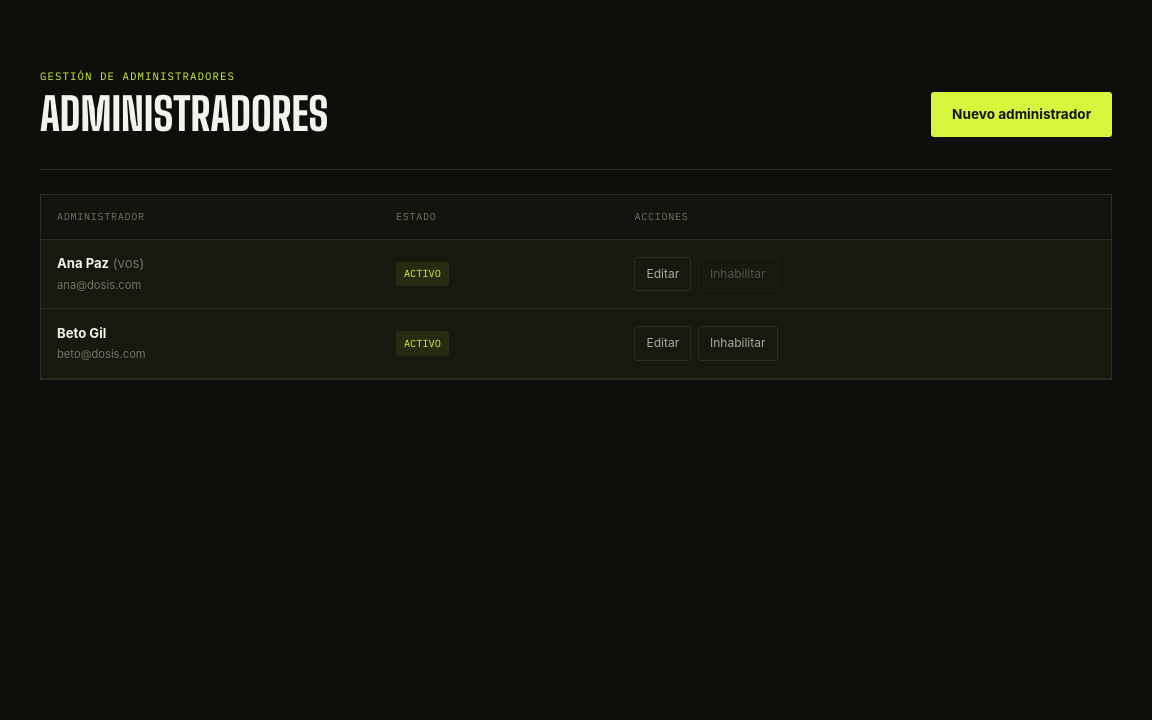
Test: AdminAdministrators › creates an administrator and adds it to the table
Expected: the text "beto@dosis.com" is shown, [57, 347, 146, 361]
Click the button "Nuevo administrador".
click(1022, 115)  # box [931, 92, 1112, 137]
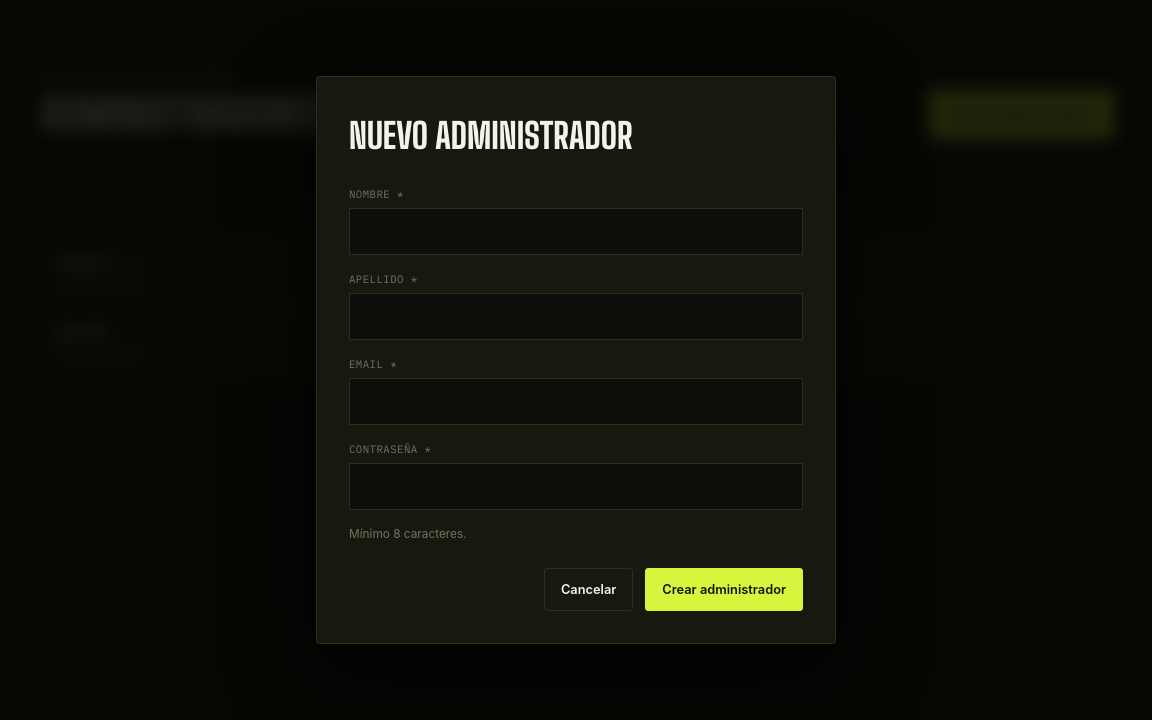
Type "Caro" into the field labelled "Nombre *".
click(576, 231); type("Caro")  # box [349, 208, 803, 255]
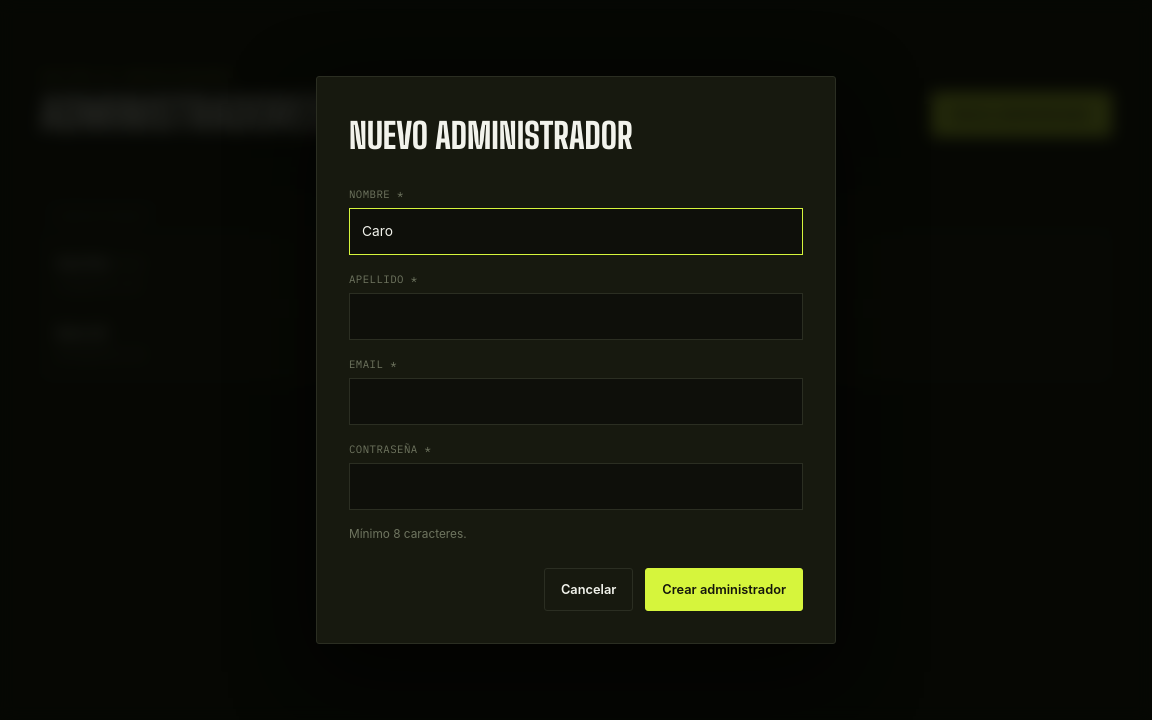
Type "Sosa" into the field labelled "Apellido *".
click(576, 316); type("Sosa")  # box [349, 293, 803, 340]
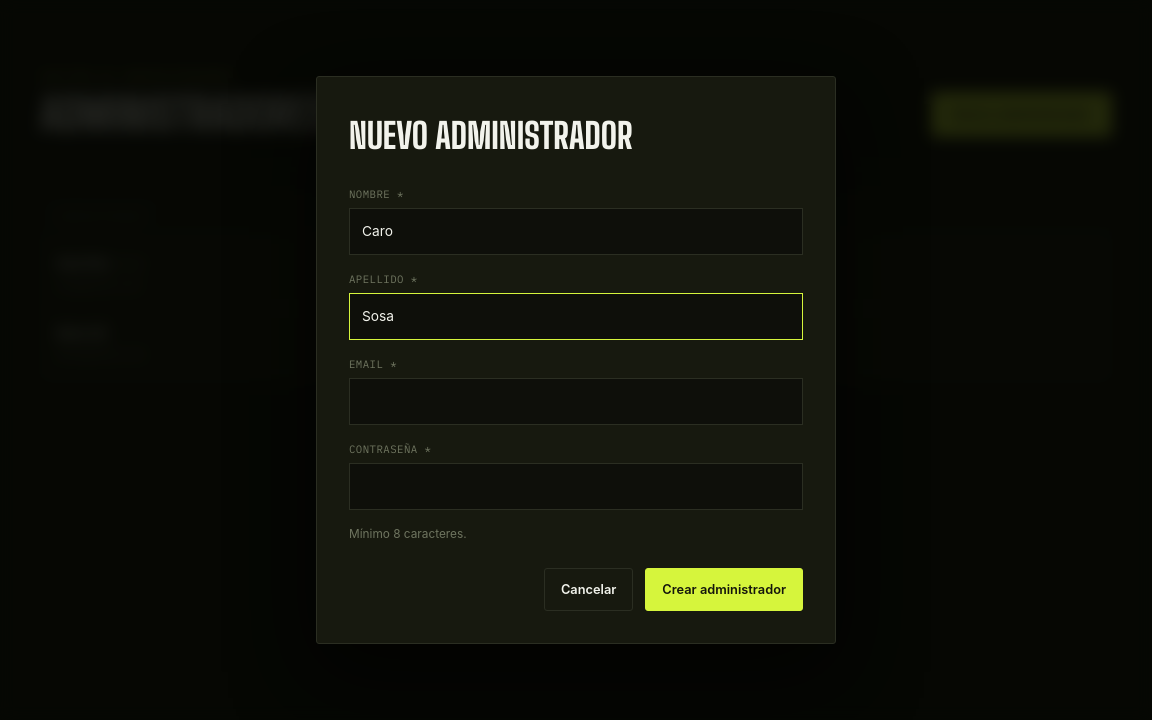
Type "caro@dosis.com" into the field labelled "Email *".
click(576, 402); type("caro@dosis.com")  # box [349, 378, 803, 425]
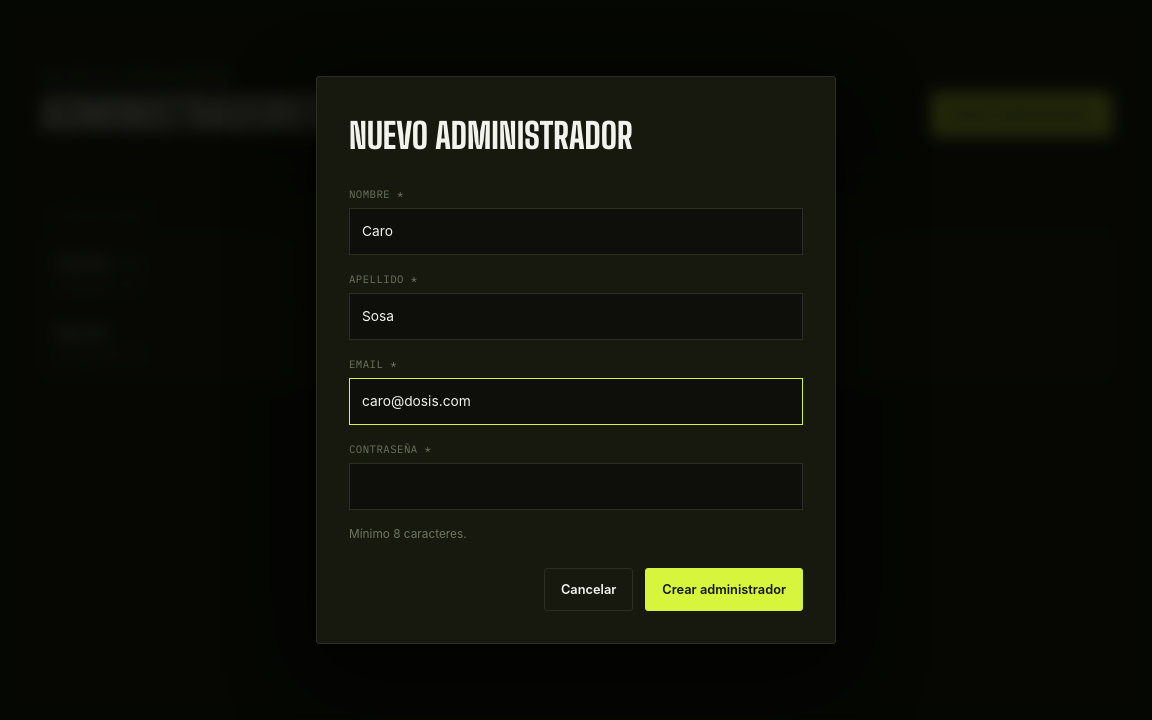
Type "clave-segura" into the password field labelled "Contraseña *".
click(576, 487); type("clave-segura")  # box [349, 463, 803, 510]
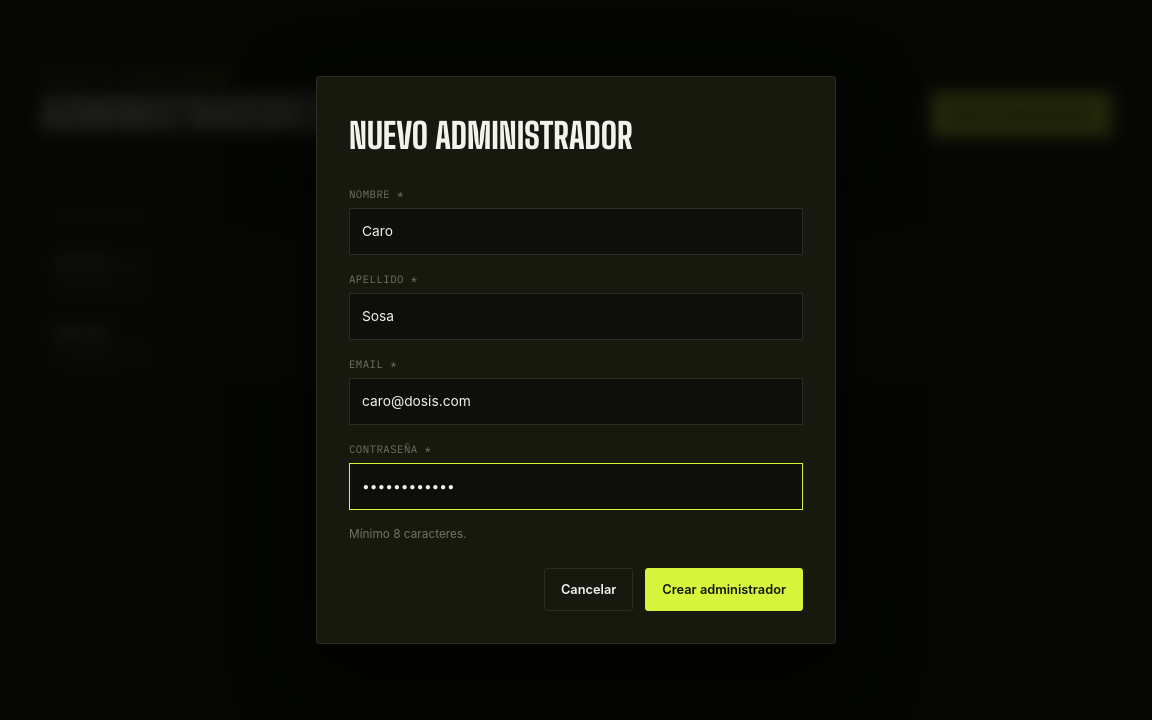
Click the button "Crear administrador".
click(724, 590)  # box [645, 568, 803, 611]
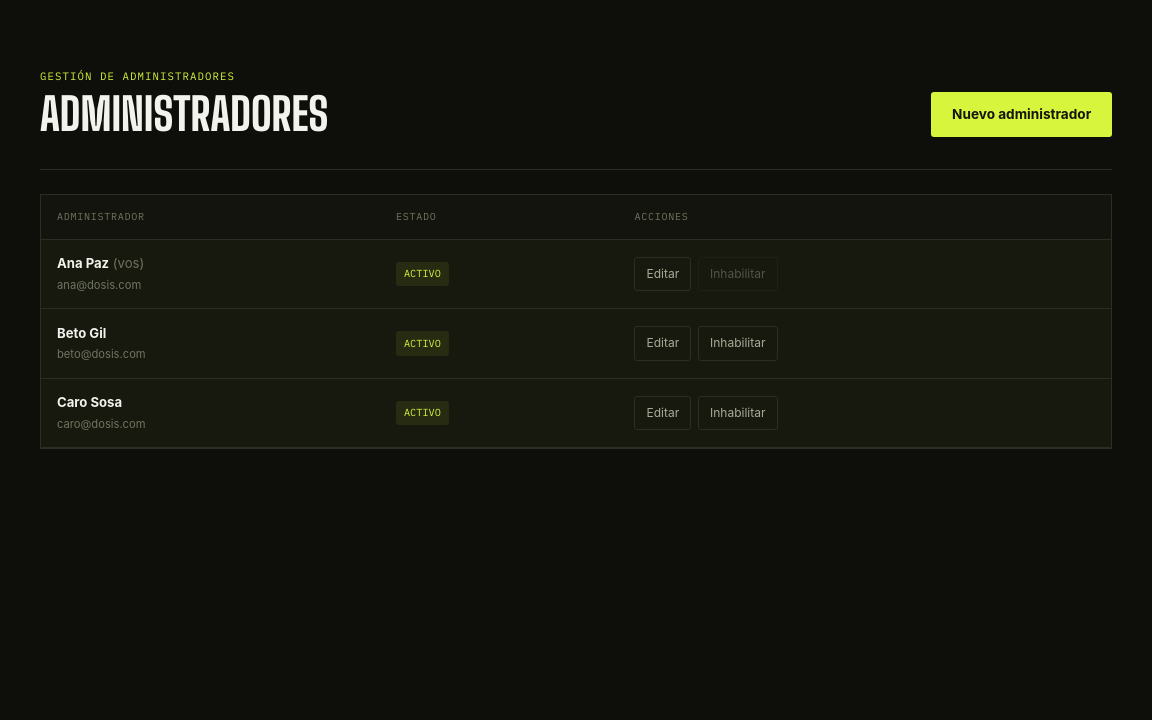
Expected: the text "caro@dosis.com" is shown, [57, 417, 146, 431]
